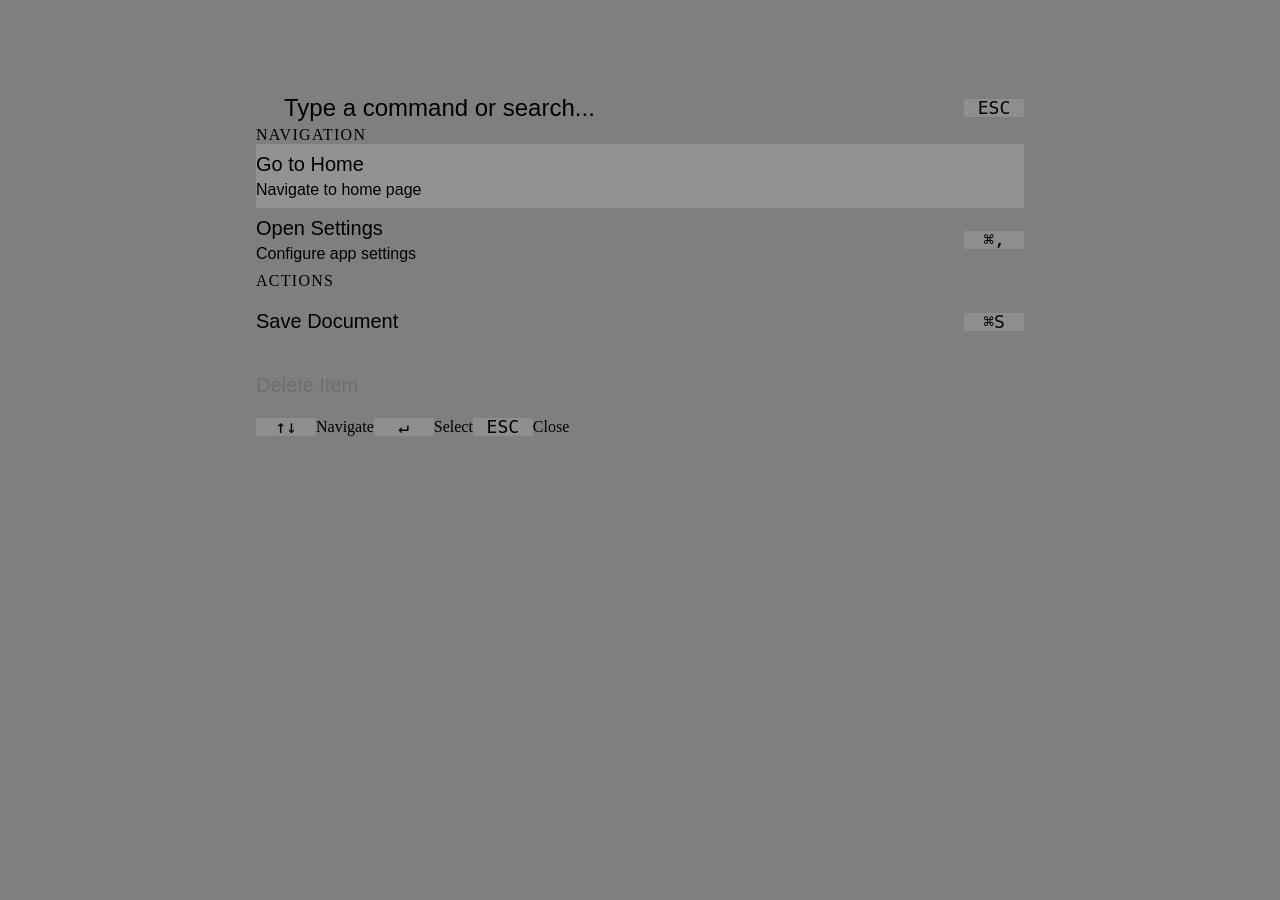
Test: CommandPalette › Search Functionality › shows empty message when no results found
This screenshot has width=1280, height=900.
Type "nonexistent command" into the field with placeholder "Type a command or search...". click: [624, 108]
box: [284,90,964,126]
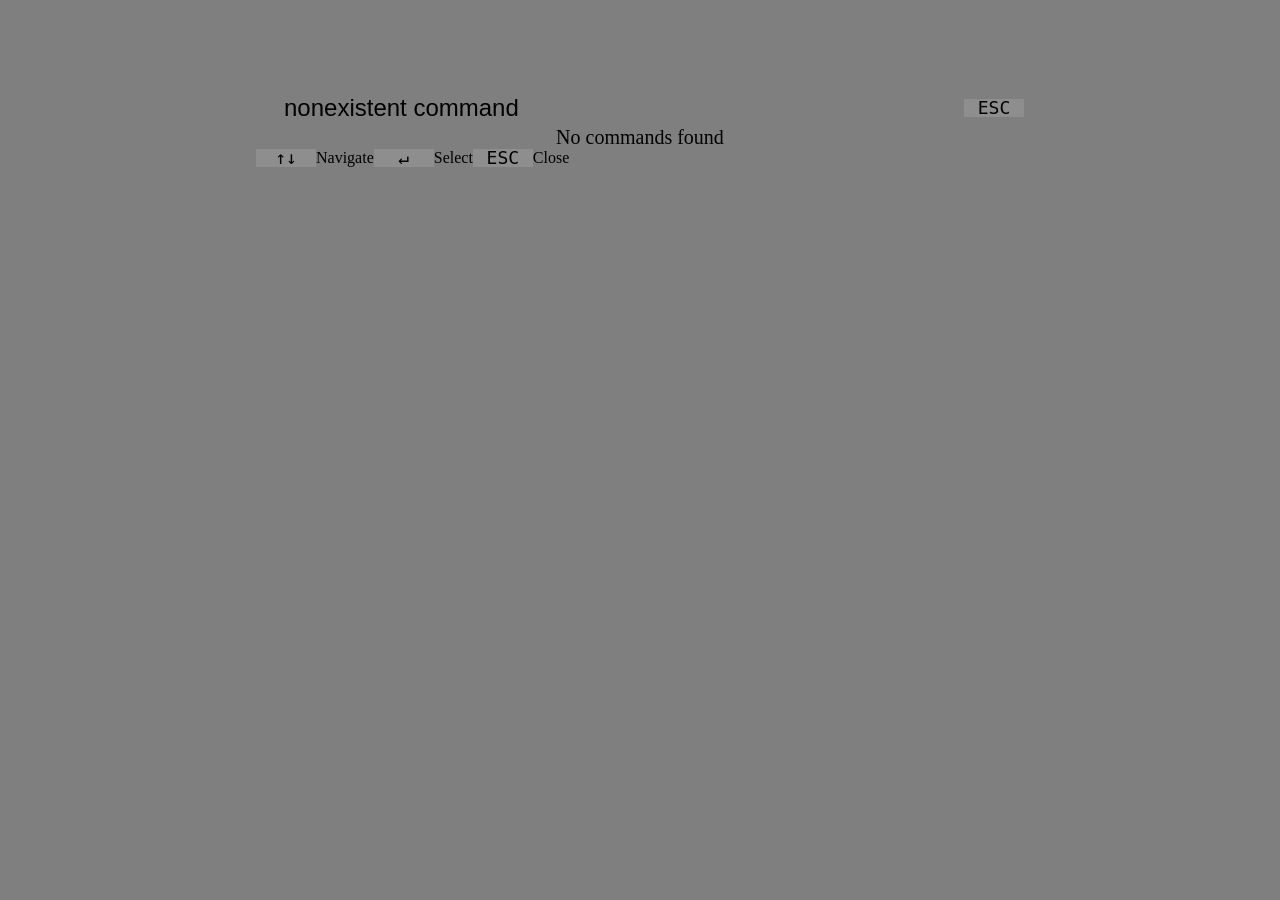
Expected: the text "No commands found" is shown, [556,126,724,148]
